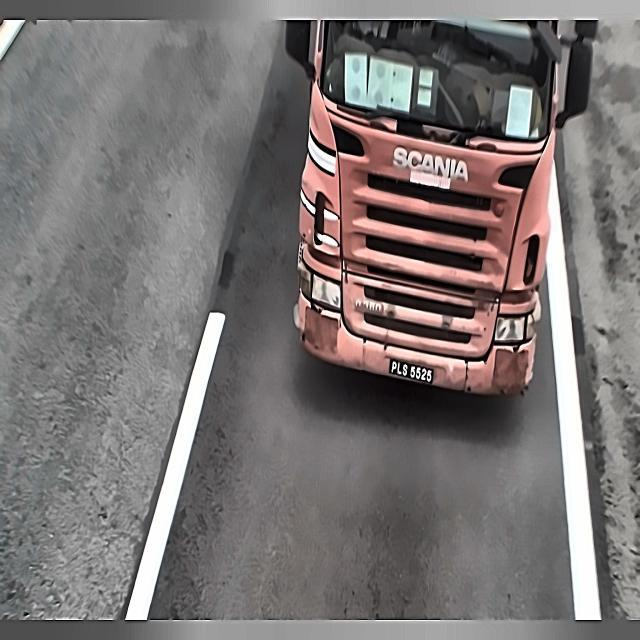car: (386, 359, 435, 387)
